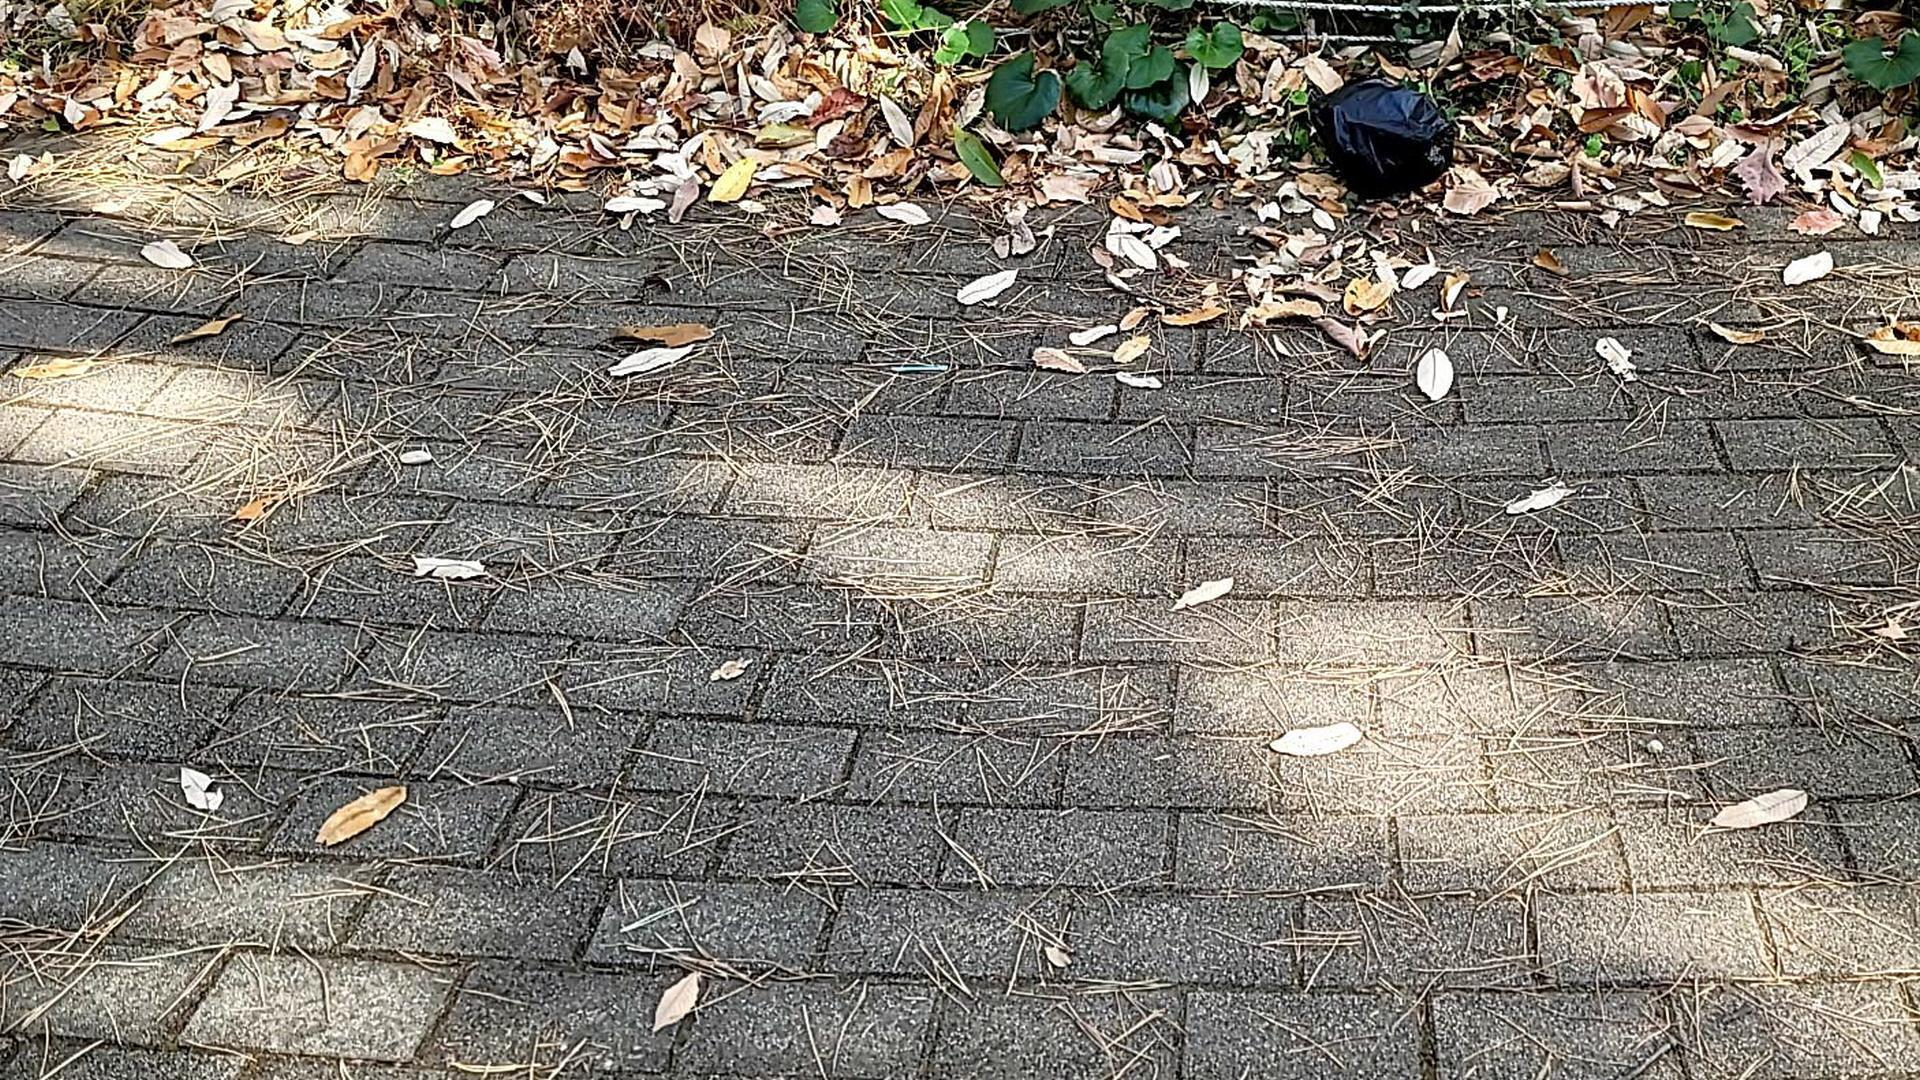black_bag: (1305, 73, 1464, 199)
